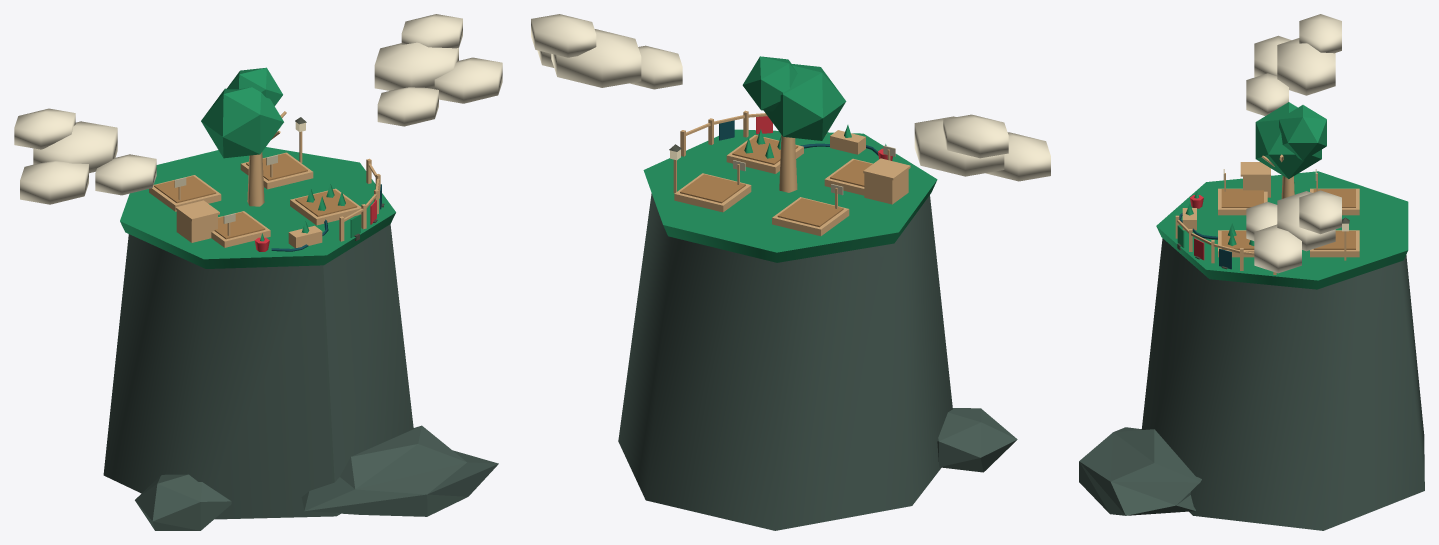
File: edge-garden.glb
3 views of the same model, side by side, from view 1: azimuth 30°, elevation 25°; view 2: azimuth 150°, elevation 25°; view 3: azimuth 270°, elevation 25° (orthographic). The views are drawn at different scales.
Parts seen in each view (by area): view 1: EdgeGarden, Tree, toy_lid; view 2: EdgeGarden, Tree, toy_lid; view 3: EdgeGarden, Tree, toy_lid.
Part boxes in pixels (x1,y1,x2,y2): EdgeGarden: (14,14,502,530); Tree: (201,67,286,206); toy_lid: (175,200,219,220); EdgeGarden: (531,14,1050,530); Tree: (742,56,846,192); toy_lid: (863,158,910,180); EdgeGarden: (1079,14,1424,530); Tree: (1255,102,1326,198); toy_lid: (1240,162,1270,176).
Size of the model in its own units: 14.7 by 11.31 by 9.78.
